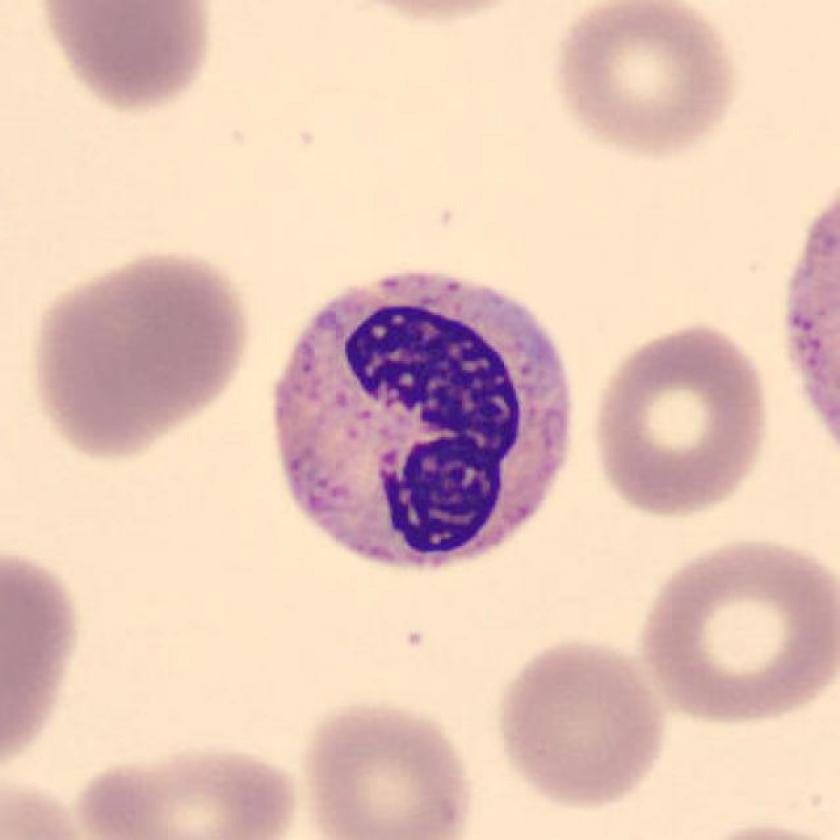neutrophil: (274, 275, 571, 564)
